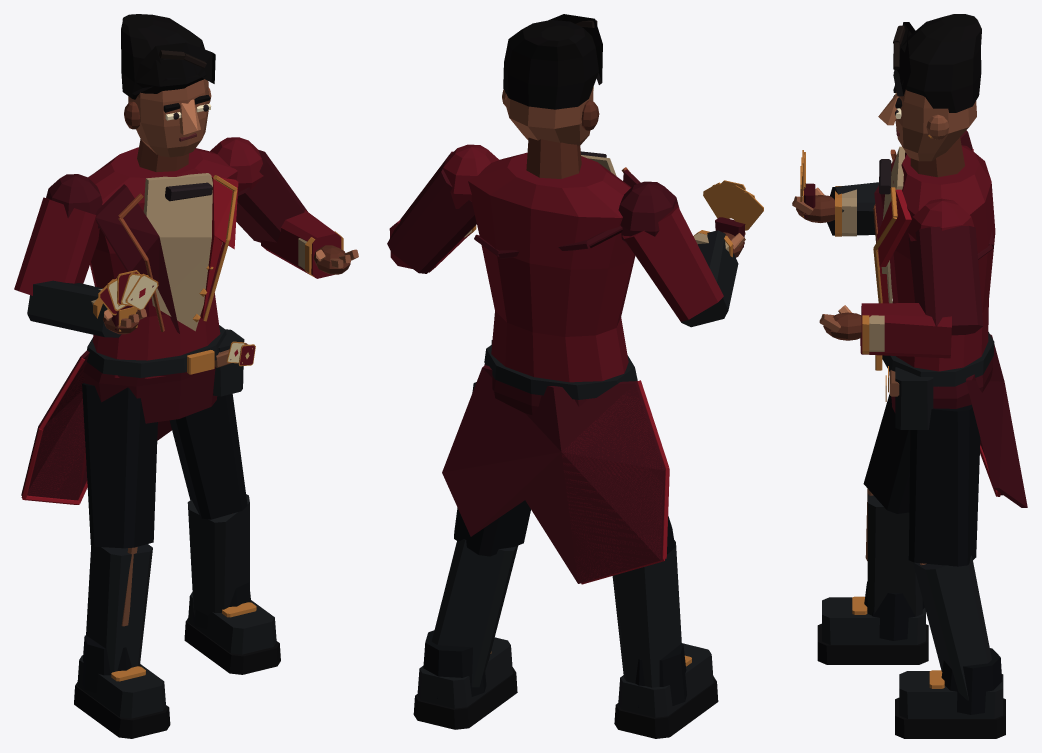
The model's file is class-cardsharp.glb.
The picture shows the model from 3 angles, left to right: view 1: azimuth 30°, elevation 25°; view 2: azimuth 150°, elevation 25°; view 3: azimuth 270°, elevation 25°; orthographic projection. The views are drawn at different scales.
Visible parts, largest first — view 1: class-cardsharp; view 2: class-cardsharp; view 3: class-cardsharp.
Part boxes in pixels (x1,y1,x2,y2): class-cardsharp: (14, 14, 358, 738); class-cardsharp: (387, 14, 763, 738); class-cardsharp: (792, 14, 1027, 738).
Bounding box in the file's own units: 0.9167 × 1.91 × 0.6186.
1 material, 1 textured.
